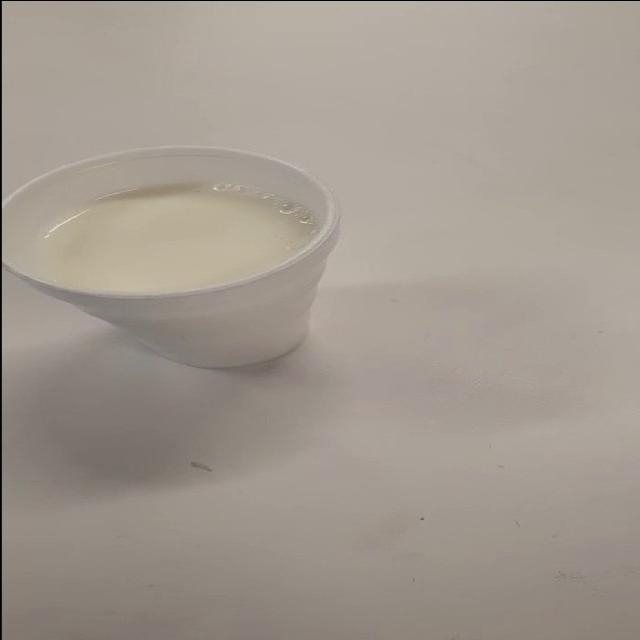Milk: (0, 137, 376, 371)
